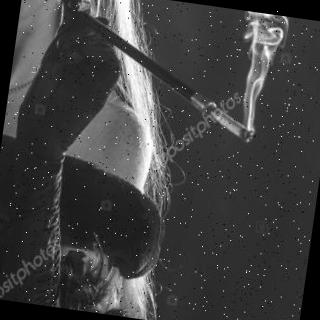smoke: (100, 0, 320, 140)
